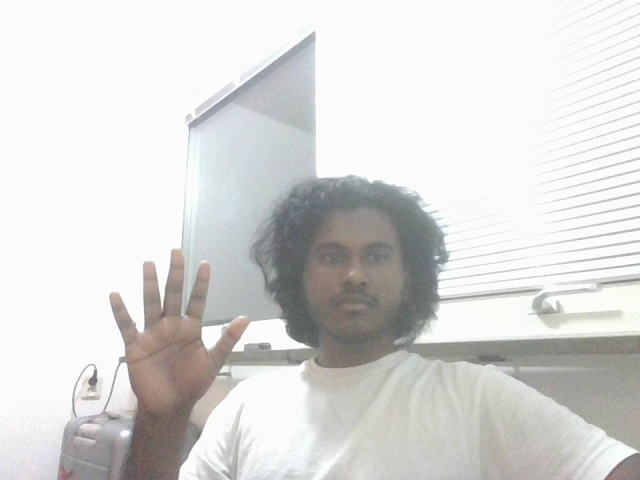hello: (112, 246, 248, 414)
